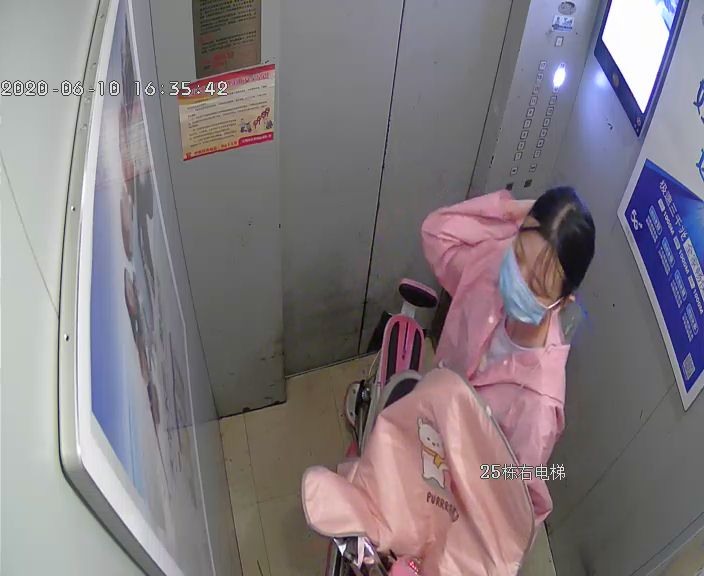Electric-bicycle: (339, 280, 444, 574)
